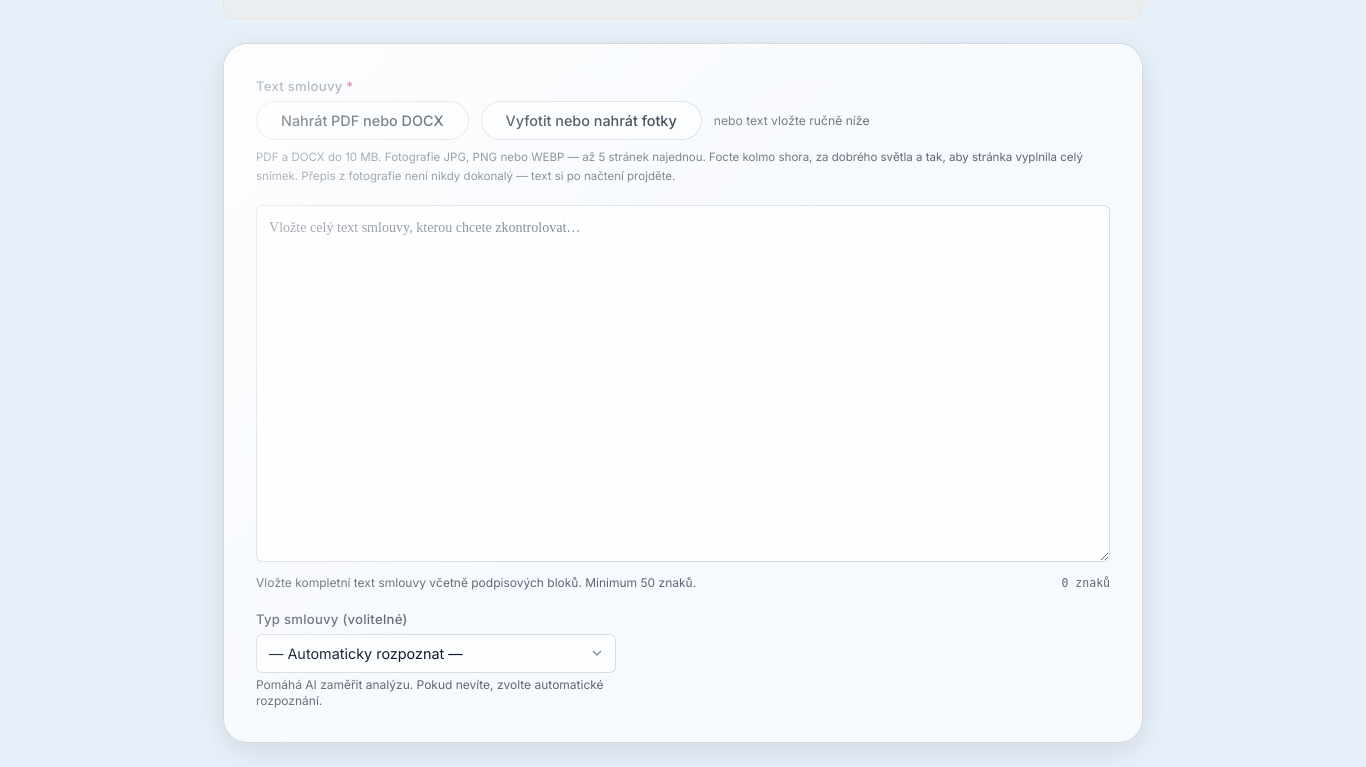
Review Page › enables submit button once text reaches 50 chars
(page scrolled)
Type "Kupní smlouva uzavřená dle § 2079 zákona č. 89/2012 Sb. mezi stranami níže uvedenými ohledně prodeje nemovitosti." into the text box labelled "Text smlouvy *" at (683, 384), box [256, 205, 1110, 562]
(page scrolled)
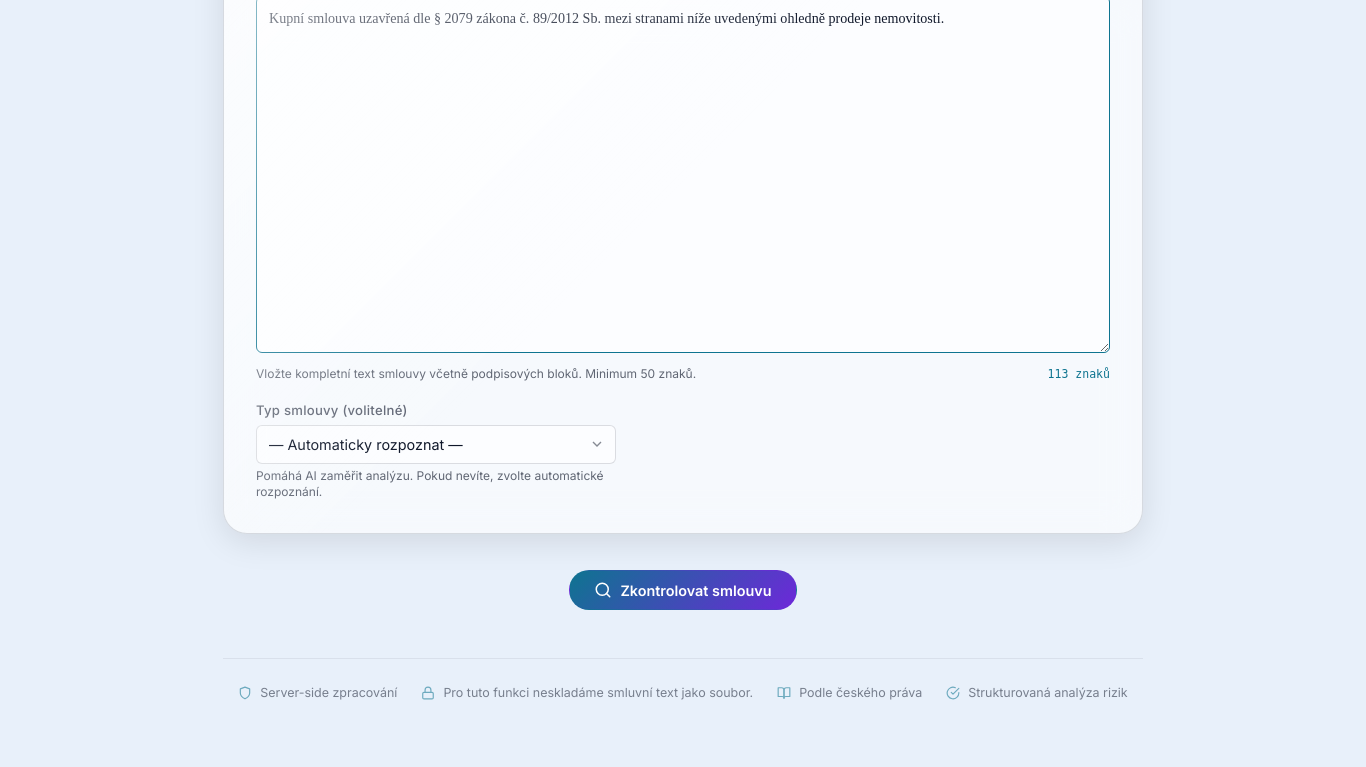
Now the button "Zkontrolovat smlouvu" is enabled, box [570, 570, 797, 610]
